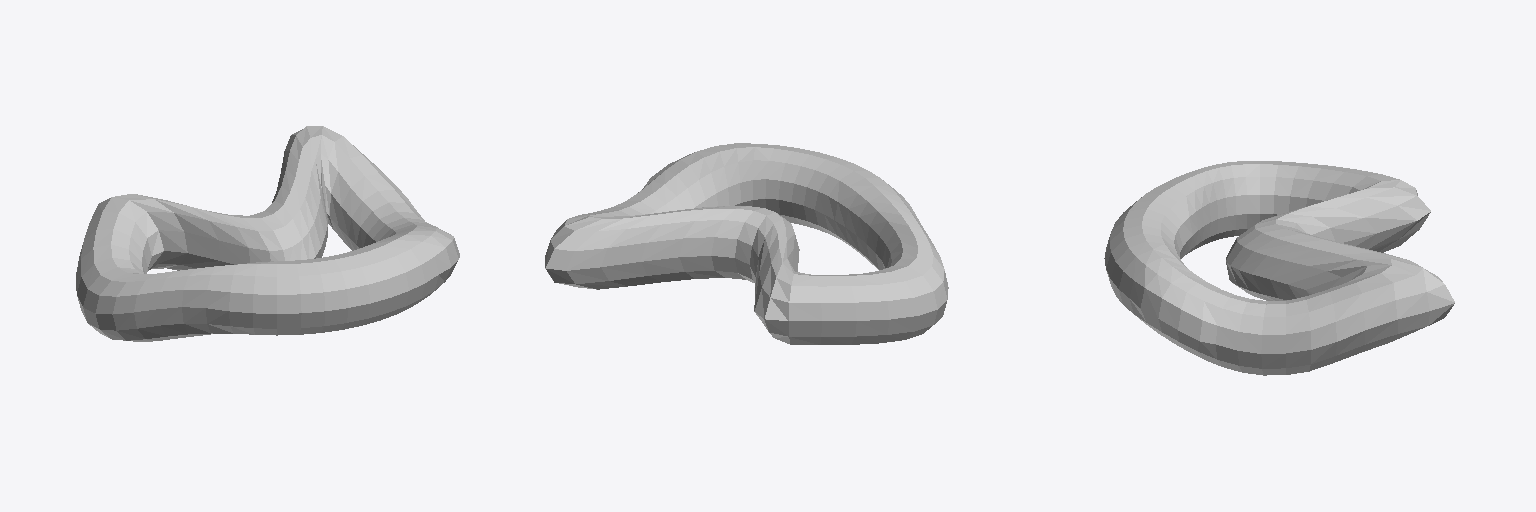
File: messy_donut.obj
3 views of the same model, side by side, from view 1: azimuth 30°, elevation 25°; view 2: azimuth 150°, elevation 25°; view 3: azimuth 270°, elevation 25° (orthographic).
Visible parts, largest first — view 1: Torus; view 2: Torus; view 3: Torus.
Boxes of the visible parts, x1,y1,x2,y2 form: Torus: [76, 126, 459, 341]; Torus: [545, 143, 948, 344]; Torus: [1104, 161, 1454, 375].
Bounding box in the file's own units: 2.65 × 0.7508 × 2.35.